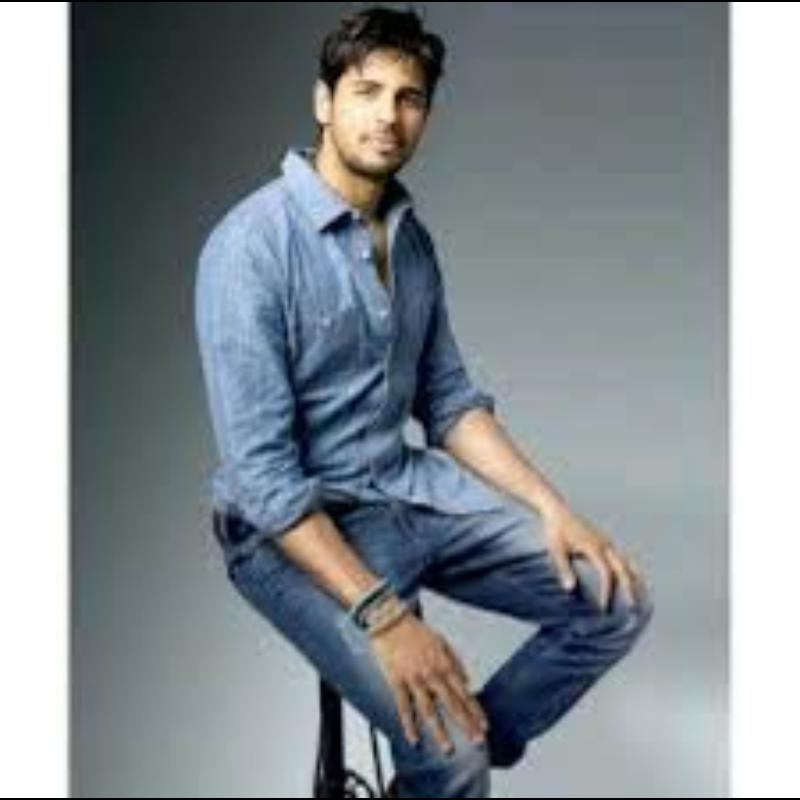Pant: (233, 506, 644, 795)
Shirt: (146, 138, 500, 494)
